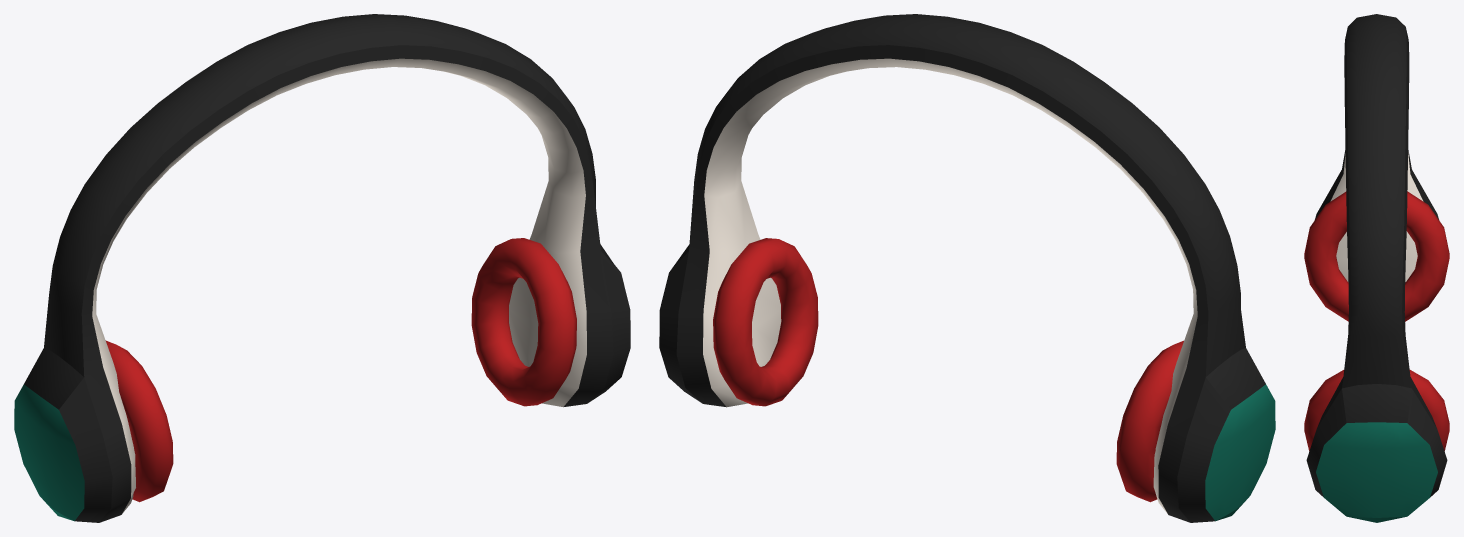
The model's file is headphone.fbx.
3 views of the same model, side by side, from view 1: azimuth 30°, elevation 25°; view 2: azimuth 150°, elevation 25°; view 3: azimuth 270°, elevation 25° (orthographic). The views are drawn at different scales.
Visible parts, largest first — view 1: Headphone; view 2: Headphone; view 3: Headphone.
Part boxes in pixels (x1,y1,x2,y2): Headphone: [14, 14, 630, 522]; Headphone: [659, 14, 1275, 522]; Headphone: [1304, 14, 1449, 522].
Bounding box in the file's own units: 160 × 116 × 40.81.
